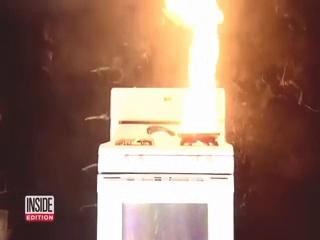Fire: (180, 1, 233, 136)
